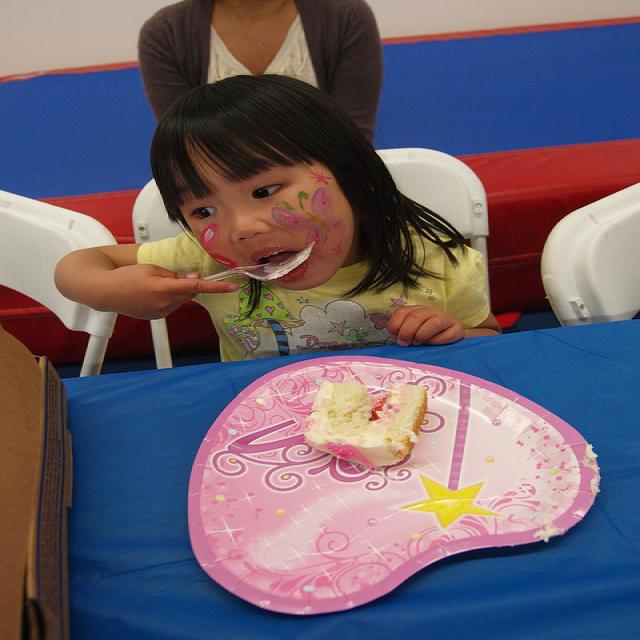chair: (128, 149, 489, 256), (0, 188, 127, 377), (539, 178, 640, 326)
dining table: (67, 309, 640, 623)
